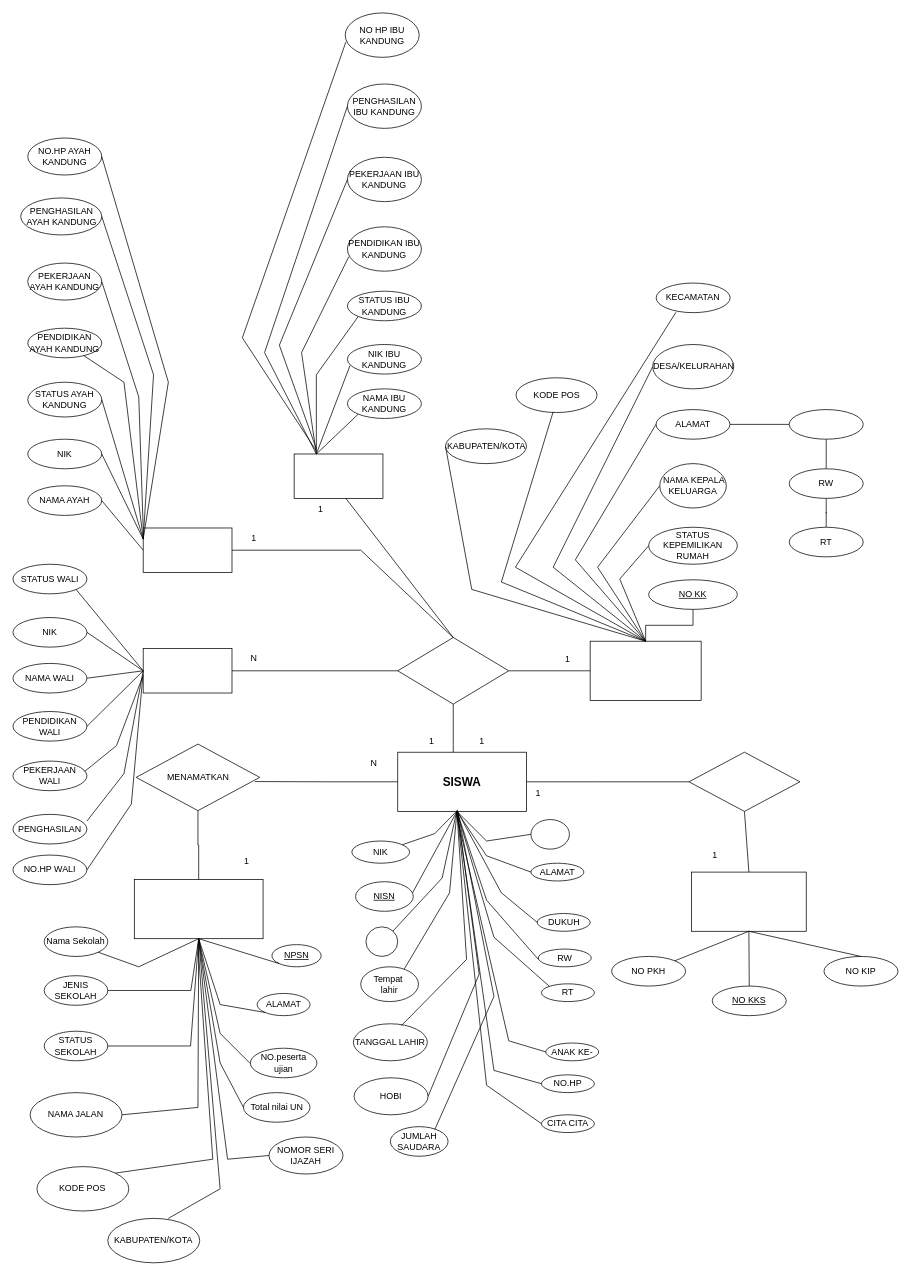
The diagram is 911 pixels wide and 1276 high, and some of its shapes have lost their labels. The shapes that lost their labels are listed below. From the top down, each one's box as (x1, y1, x2, y2) in pixels, then its label:
(788, 409, 863, 439): DUSUN
(293, 453, 383, 498): IBU
(142, 527, 232, 572): AYAH
(142, 648, 232, 693): wali
(397, 637, 509, 704): MEMILIKI
(589, 640, 701, 700): ORANG TUA
(688, 751, 800, 811): TERDAFTAR
(530, 819, 569, 849): Jenis kelamin
(134, 879, 263, 939): ASAL SEKOLAH
(691, 871, 806, 931): PROGRAM PIP
(365, 926, 398, 956): NAMA
